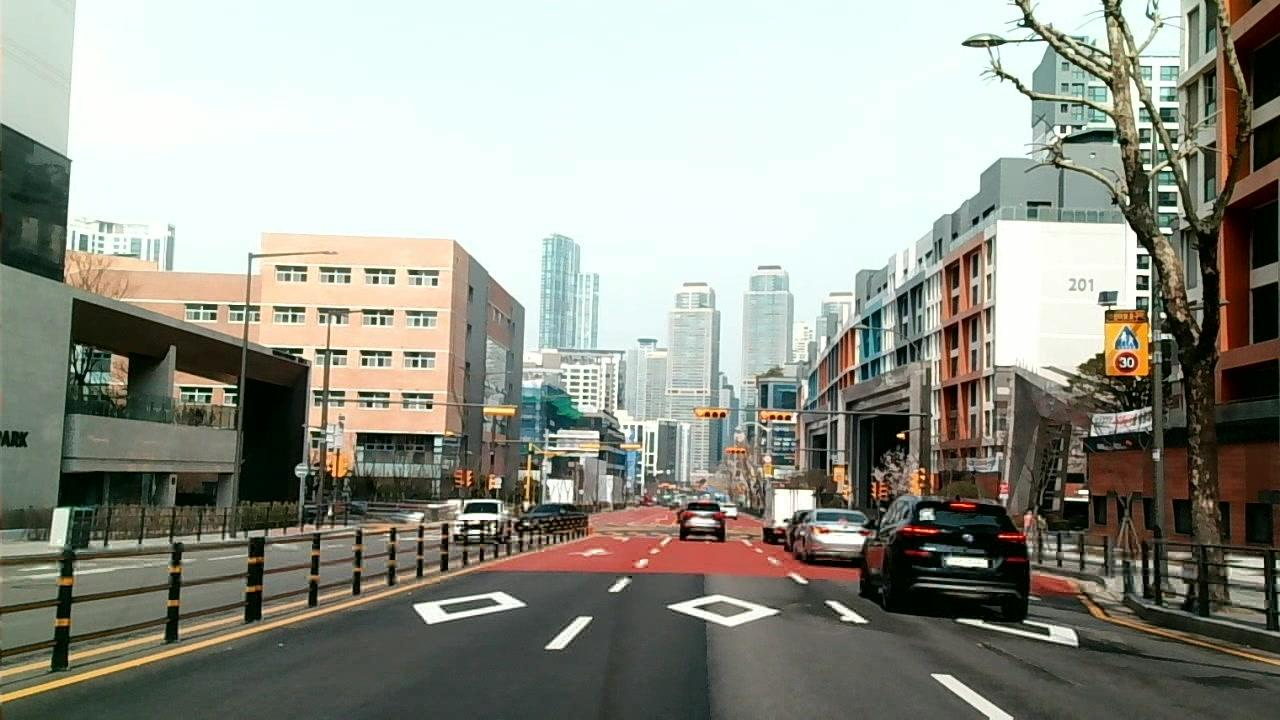banner: (980, 643, 1071, 683), (1087, 406, 1154, 436)
